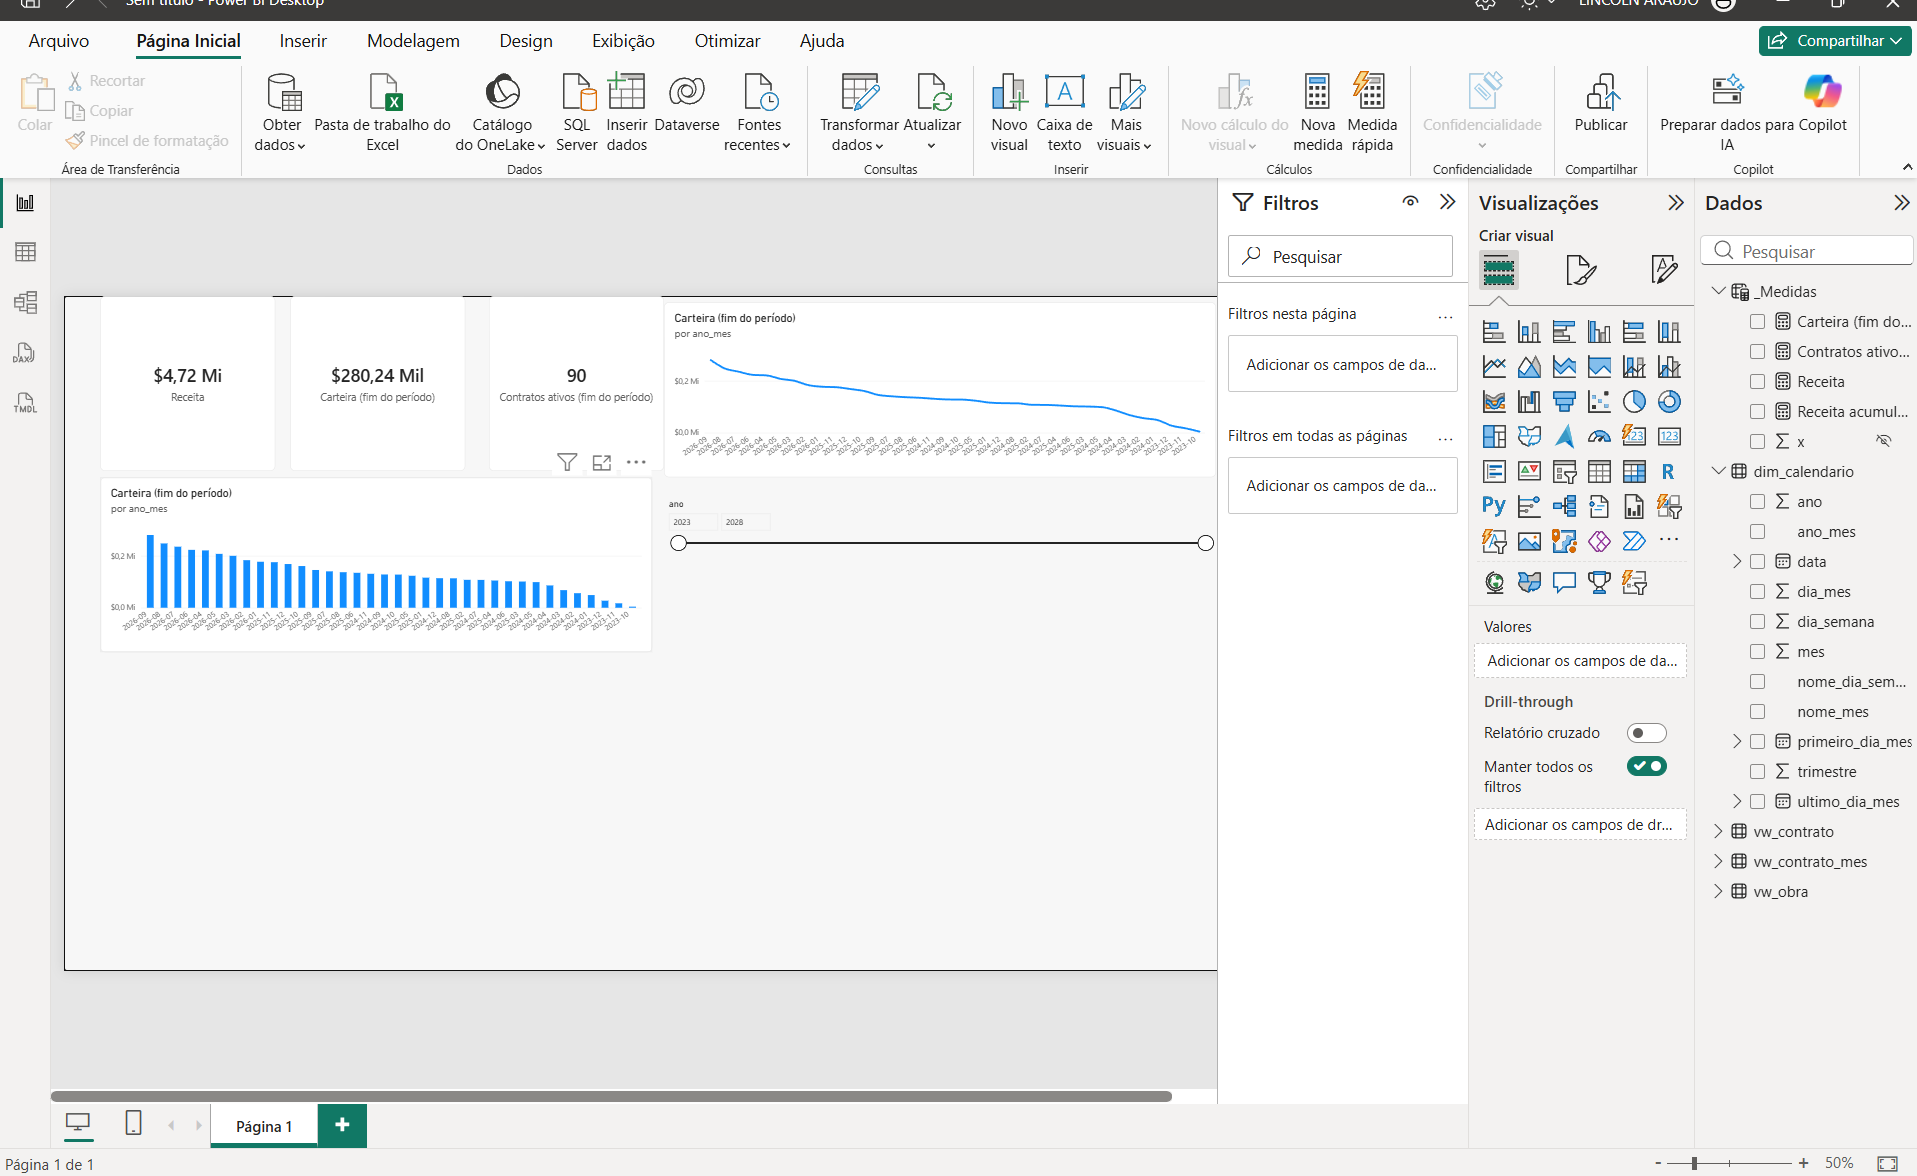

The dashboard page shown, as its layout file describes it:
{"tool":"powerbi","page":{"name":"Página 1","canvas":[1920,1080],"ordinal":0},"visuals":[{"type":"card","fields":{"Values":["_Medidas.Receita"]},"box":[57.6,0,280,280],"z":0},{"type":"card","fields":{"Values":["_Medidas.Carteira (fim do período)"]},"box":[362.3,0,280,280],"z":1000},{"type":"card","fields":{"Values":["_Medidas.Contratos ativos (fim do período)"]},"box":[679.2,0,280,280],"z":2000},{"type":"columnChart","fields":{"Category":["dim_calendario.ano_mes"],"Y":["_Medidas.Receita"]},"box":[57.8,290,883.3,280],"z":3000},{"type":"slicer","fields":{"Values":["dim_calendario.ano"]},"box":[960,324,883,210],"z":4000},{"type":"lineChart","fields":{"Category":["dim_calendario.ano_mes"],"Y":["_Medidas.Contratos ativos (fim do período)"]},"box":[58,580,883,280],"z":5000}]}

Visuals, with their boxes on the page's 1920x1080 design canvas (x1, y1, x2, y2). These are canvas units, not pixel positions in the 1917x1176 screenshot, which may show the page scaled, cropped or inside an application window:
card - _Medidas.Receita: box=[58, 0, 338, 280]
card - _Medidas.Carteira (fim do período): box=[362, 0, 642, 280]
card - _Medidas.Contratos ativos (fim do período): box=[679, 0, 959, 280]
columnChart - dim_calendario.ano_mes x _Medidas.Receita: box=[58, 290, 941, 570]
slicer - dim_calendario.ano: box=[960, 324, 1843, 534]
lineChart - dim_calendario.ano_mes x _Medidas.Contratos ativos (fim do período): box=[58, 580, 941, 860]
